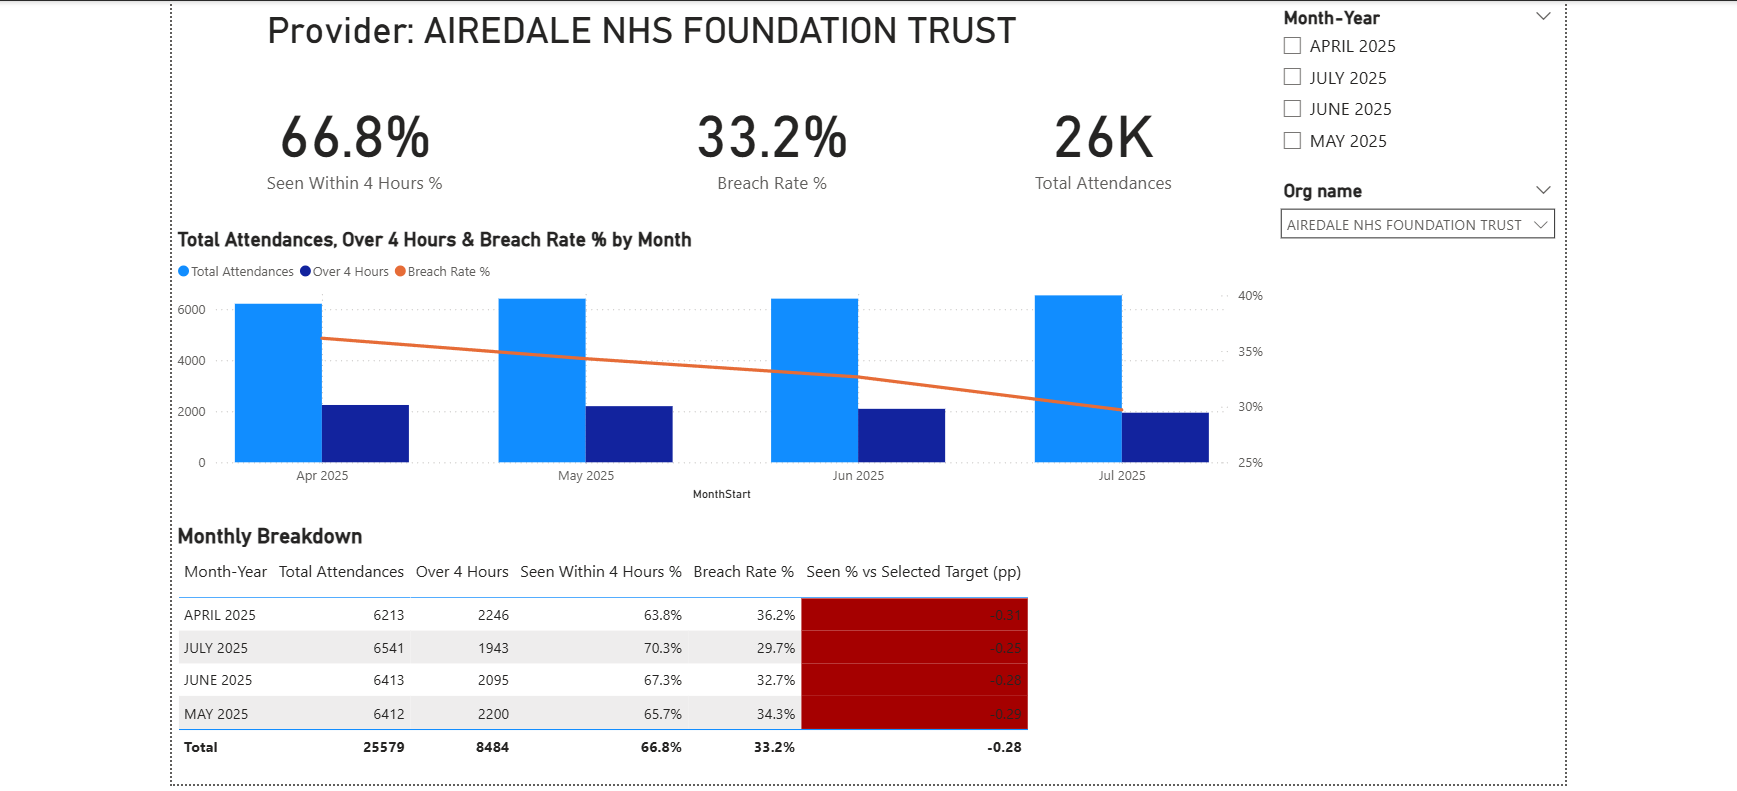

What the dashboard file says about the page in this screenshot:
{"tool":"powerbi","page":{"name":"Provider Drilldown","canvas":[1280,720],"ordinal":1},"visuals":[{"type":"slicer","fields":{"Values":["AE_Combined.Org name"]},"box":[1008,160,272,64],"z":0},{"type":"slicer","fields":{"Values":["AE_Combined.Month-Year"]},"box":[1008,0,272,160],"z":1000},{"type":"card","fields":{"Values":["Calculations.Seen Within 4 Hours %"]},"box":[32,48,272,160],"z":2000},{"type":"card","fields":{"Values":["Calculations.Breach Rate %"]},"box":[416,48,272,160],"z":3000},{"type":"card","fields":{"Values":["Calculations.Total Attendances"]},"box":[720,48,272,160],"z":4000},{"type":"lineClusteredColumnComboChart","title":"Total Attendances, Over 4 Hours & Breach Rate % by Month","fields":{"Category":["AE_Combined.MonthStart"],"Y":["Calculations.Total Attendances","Calculations.Over 4 Hours"],"Y2":["Calculations.Breach Rate %"]},"box":[0,208,1008,256],"z":5000},{"type":"tableEx","title":"Monthly Breakdown","fields":{"Values":["AE_Combined.Month-Year","Calculations.Total Attendances","Calculations.Over 4 Hours","Calculations.Seen Within 4 Hours %","Calculations.Breach Rate %","Calculations.Seen % vs Selected Target (pp)"]},"box":[0,480,944,240],"z":6000},{"type":"card","fields":{"Values":["Calculations.Page 2 Title"]},"box":[0,0,864,48],"z":7000}]}

Visuals, with their boxes on the page's 1280x720 design canvas (x1, y1, x2, y2). These are canvas units, not pixel positions in the 1737x791 screenshot, which may show the page scaled, cropped or inside an application window:
slicer - AE_Combined.Org name: (left=1008, top=160, right=1280, bottom=224)
slicer - AE_Combined.Month-Year: (left=1008, top=0, right=1280, bottom=160)
card - Calculations.Seen Within 4 Hours %: (left=32, top=48, right=304, bottom=208)
card - Calculations.Breach Rate %: (left=416, top=48, right=688, bottom=208)
card - Calculations.Total Attendances: (left=720, top=48, right=992, bottom=208)
"Total Attendances, Over 4 Hours & Breach Rate % by Month" lineClusteredColumnComboChart: (left=0, top=208, right=1008, bottom=464)
"Monthly Breakdown" tableEx: (left=0, top=480, right=944, bottom=720)
card - Calculations.Page 2 Title: (left=0, top=0, right=864, bottom=48)
